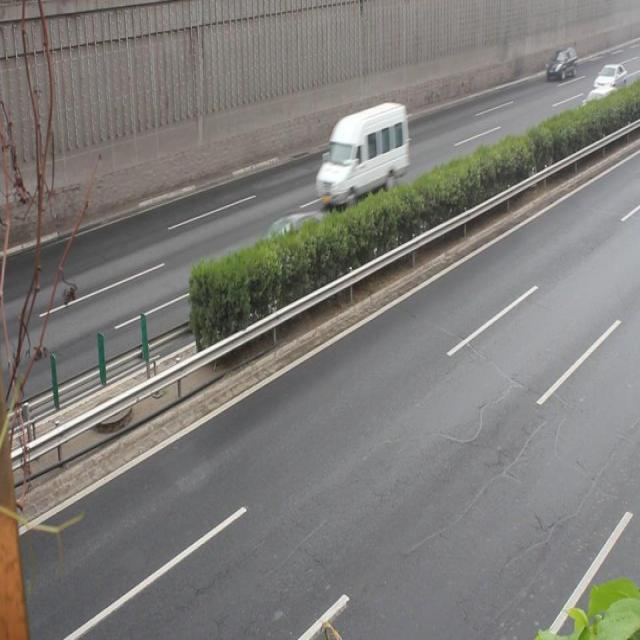car: (244, 210, 326, 288), (575, 85, 621, 132), (543, 46, 577, 86)
truck: (315, 104, 409, 205)
